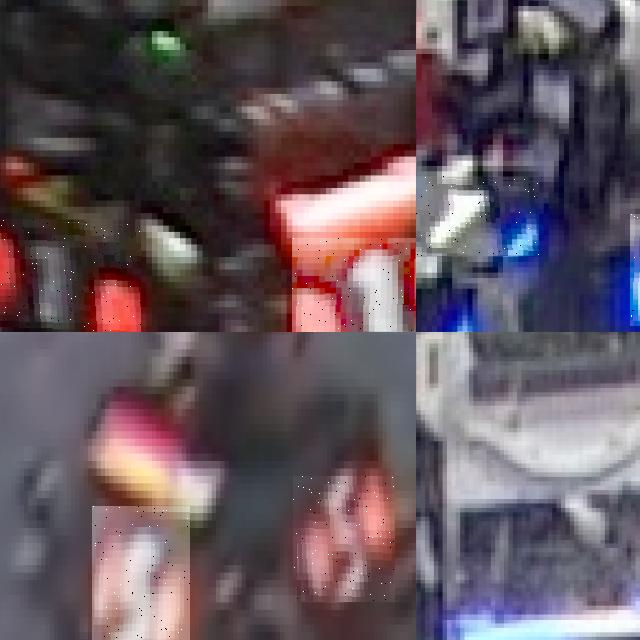B1: (416, 176, 538, 256), (416, 272, 477, 332)
R1: (0, 219, 140, 332), (292, 238, 416, 332)
R5: (92, 505, 190, 640), (293, 476, 395, 602)
